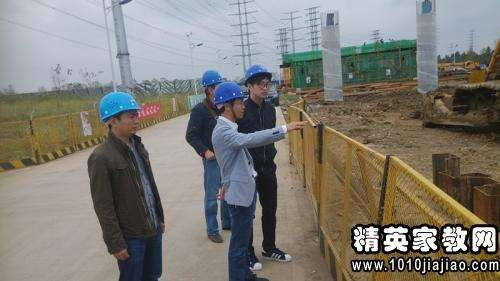blue: (95, 88, 143, 137), (214, 80, 246, 119), (244, 65, 272, 99), (199, 72, 223, 99)
